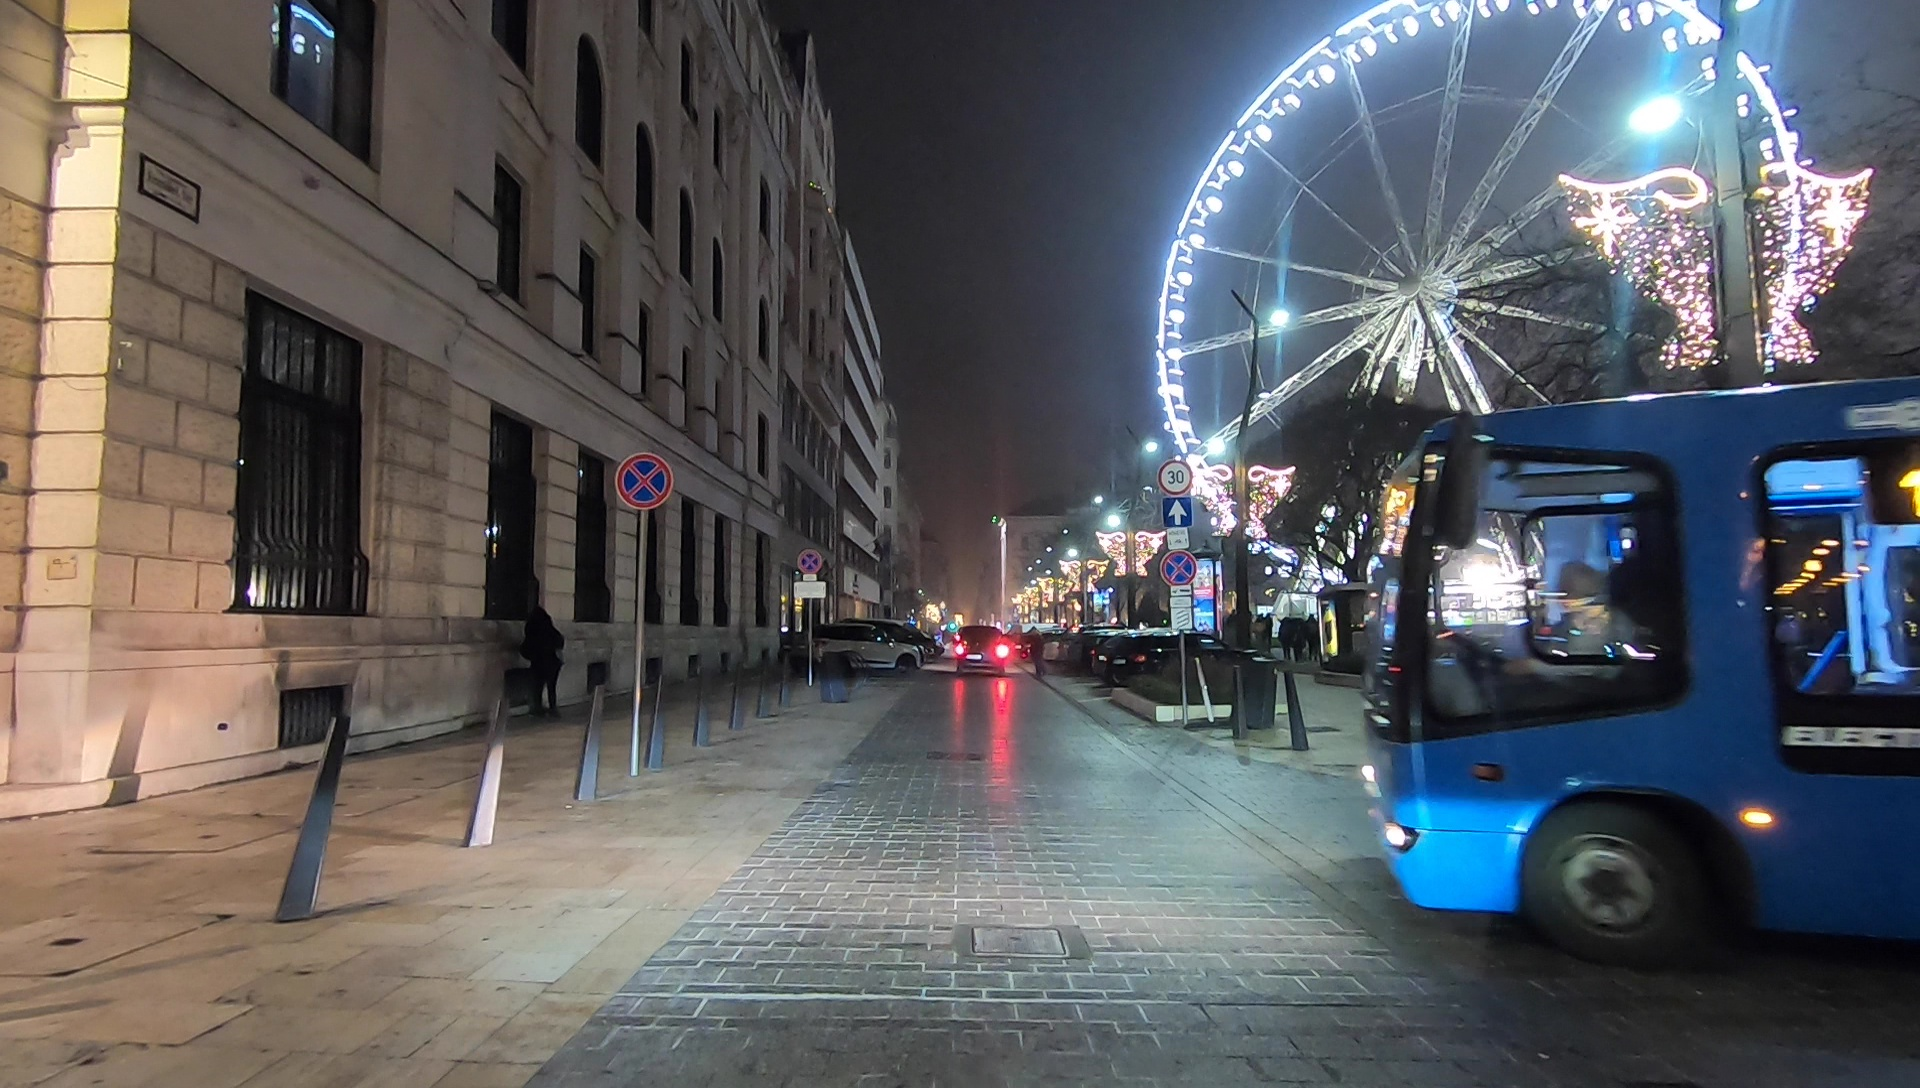person: (519, 606, 567, 711)
